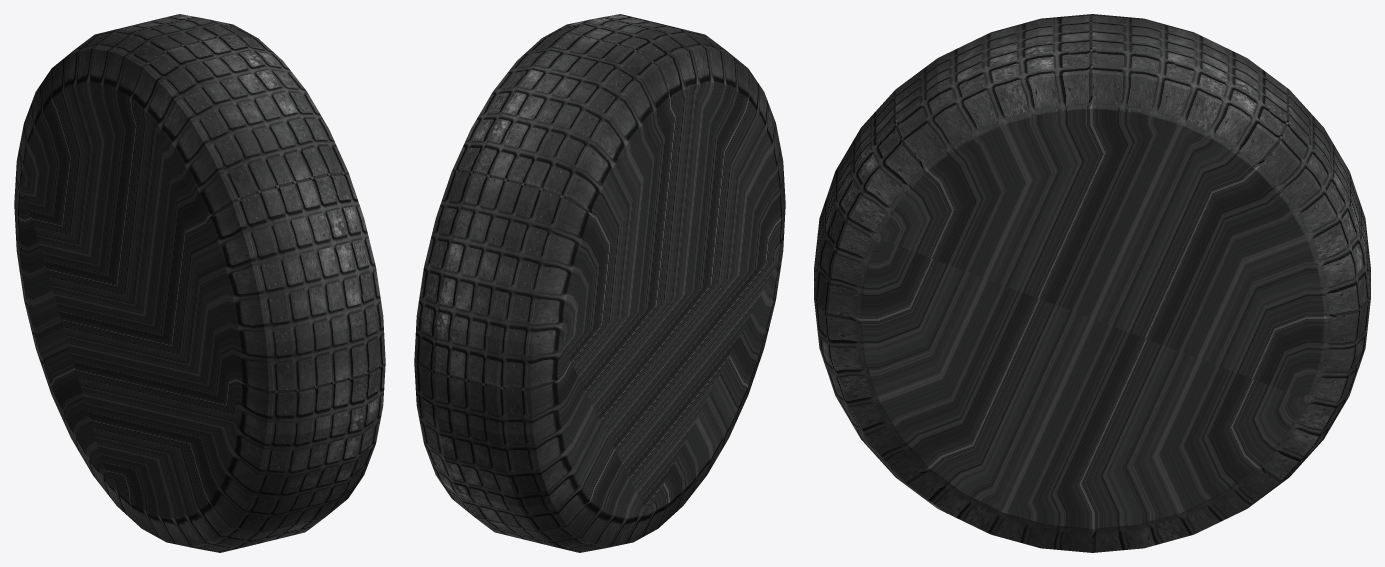
File: tire.glb
3 views of the same model, side by side, from view 1: azimuth 30°, elevation 25°; view 2: azimuth 150°, elevation 25°; view 3: azimuth 270°, elevation 25° (orthographic). The views are drawn at different scales.
Visible parts, largest first — view 1: Cylinder; view 2: Cylinder; view 3: Cylinder.
Boxes of the visible parts, x1=… form: Cylinder: x1=14, y1=14, x2=385, y2=552; Cylinder: x1=414, y1=14, x2=785, y2=552; Cylinder: x1=814, y1=14, x2=1370, y2=552.
Bounding box in the file's own units: 0.18 × 0.6 × 0.6.
1 material, 1 textured.
